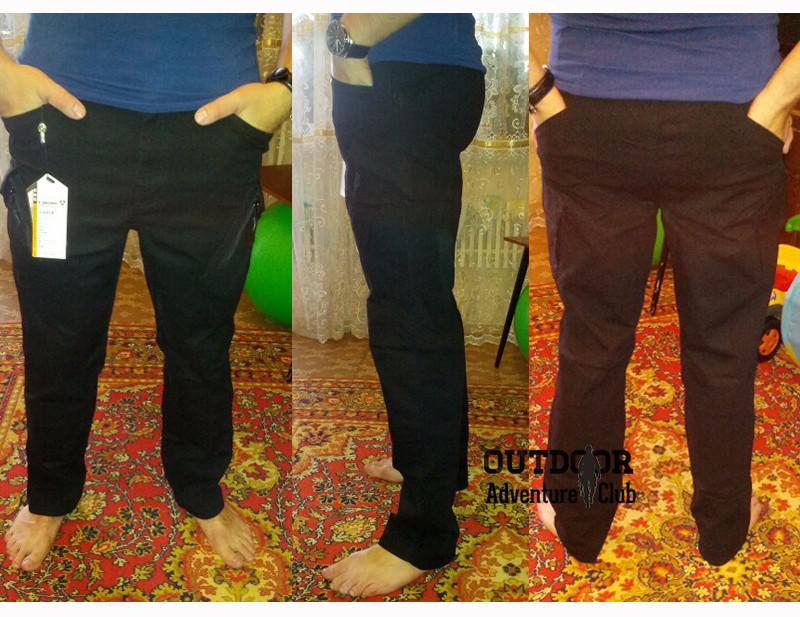pants: (531, 97, 776, 563), (6, 102, 262, 524), (326, 56, 473, 580)
